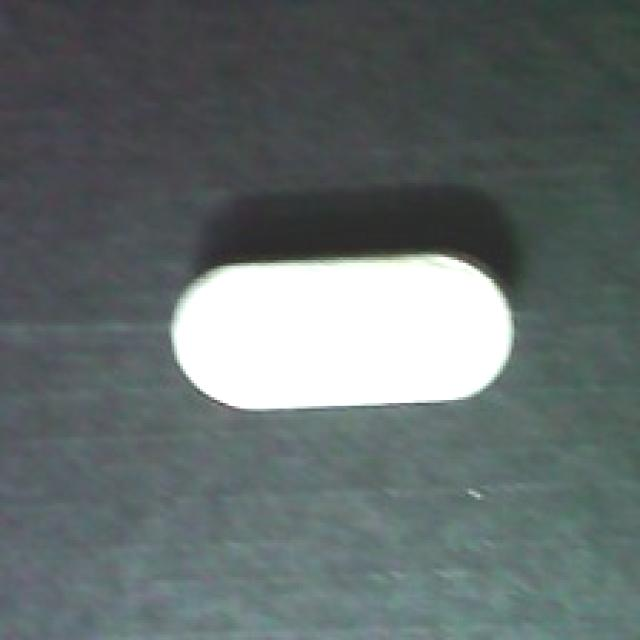no-defect: (166, 240, 517, 417)
